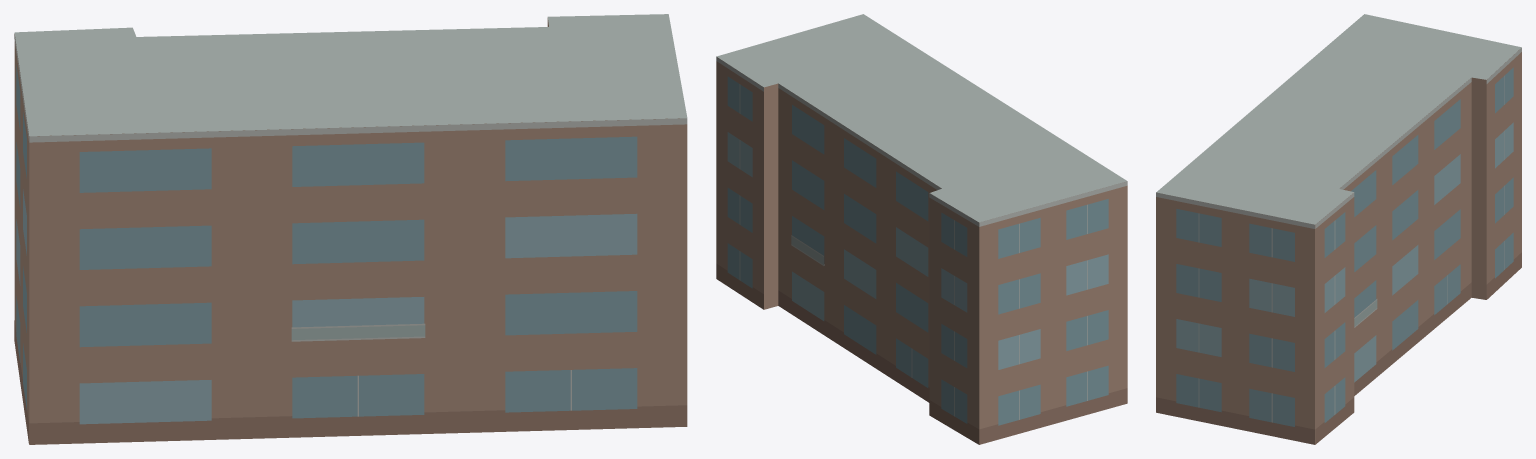
Rendered from survey-upis-32894173.glb.
3 renders of one model, left to right at view 1: azimuth 30°, elevation 25°; view 2: azimuth 150°, elevation 25°; view 3: azimuth 270°, elevation 25°, orthographic. The views are drawn at different scales.
Parts seen in each view (by area): view 1: survey-upis-32894173.tmp; view 2: survey-upis-32894173.tmp; view 3: survey-upis-32894173.tmp.
Boxes of the visible parts, x1,y1,x2,y2 form: survey-upis-32894173.tmp: (14,14,687,444); survey-upis-32894173.tmp: (716,14,1127,444); survey-upis-32894173.tmp: (1156,14,1521,444).
Bounding box in the file's own units: 24.8 × 12.08 × 18.19.
